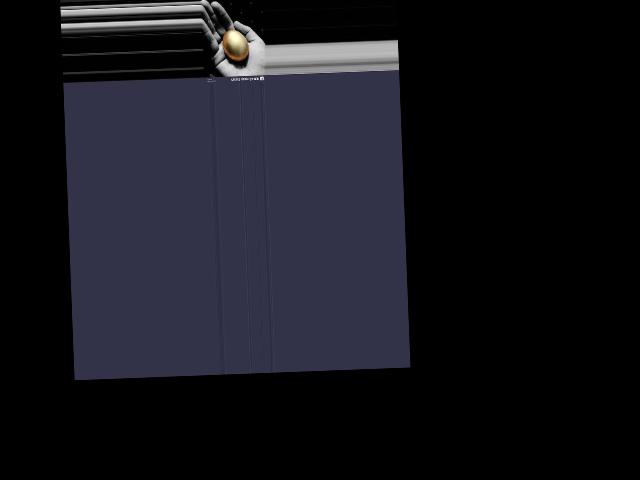egg: (221, 29, 248, 60)
